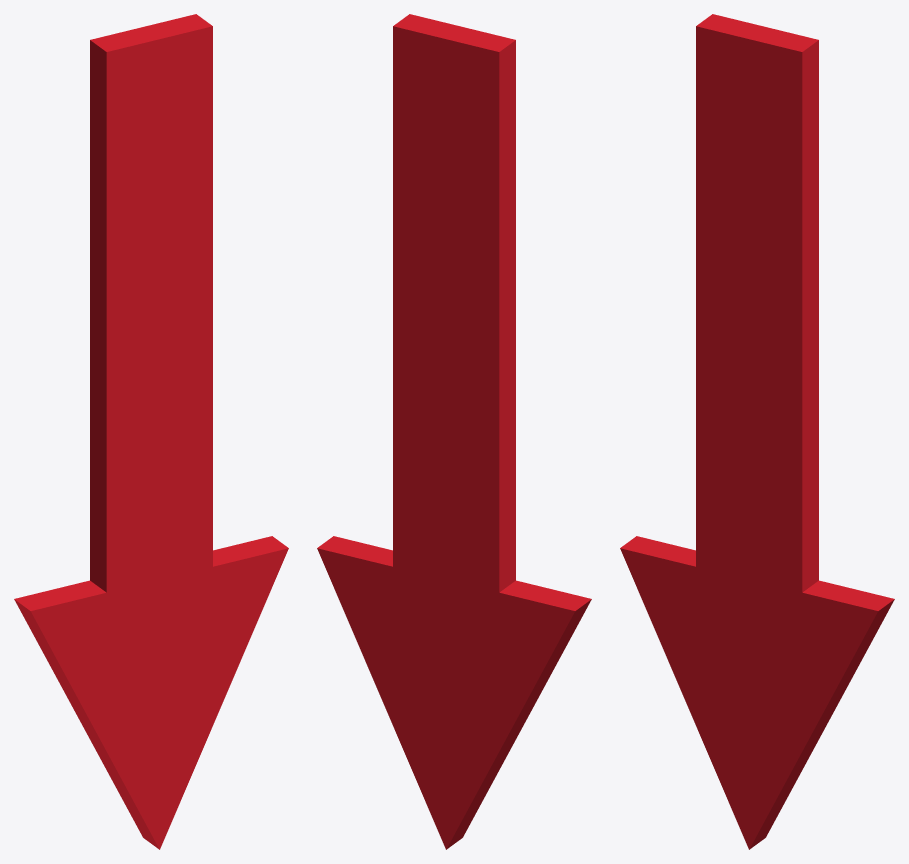
Rendered from Marker.fbx.
The picture shows the model from 3 angles, left to right: view 1: azimuth 30°, elevation 25°; view 2: azimuth 150°, elevation 25°; view 3: azimuth 330°, elevation 25°; orthographic projection.
Parts seen in each view (by area): view 1: Plane; view 2: Plane; view 3: Plane.
Boxes of the visible parts, bbox=[...] form: Plane: bbox=[14, 14, 288, 849]; Plane: bbox=[317, 14, 591, 849]; Plane: bbox=[620, 14, 894, 849].
Size of the model in its own units: 54.12 by 162 by 6.06.
